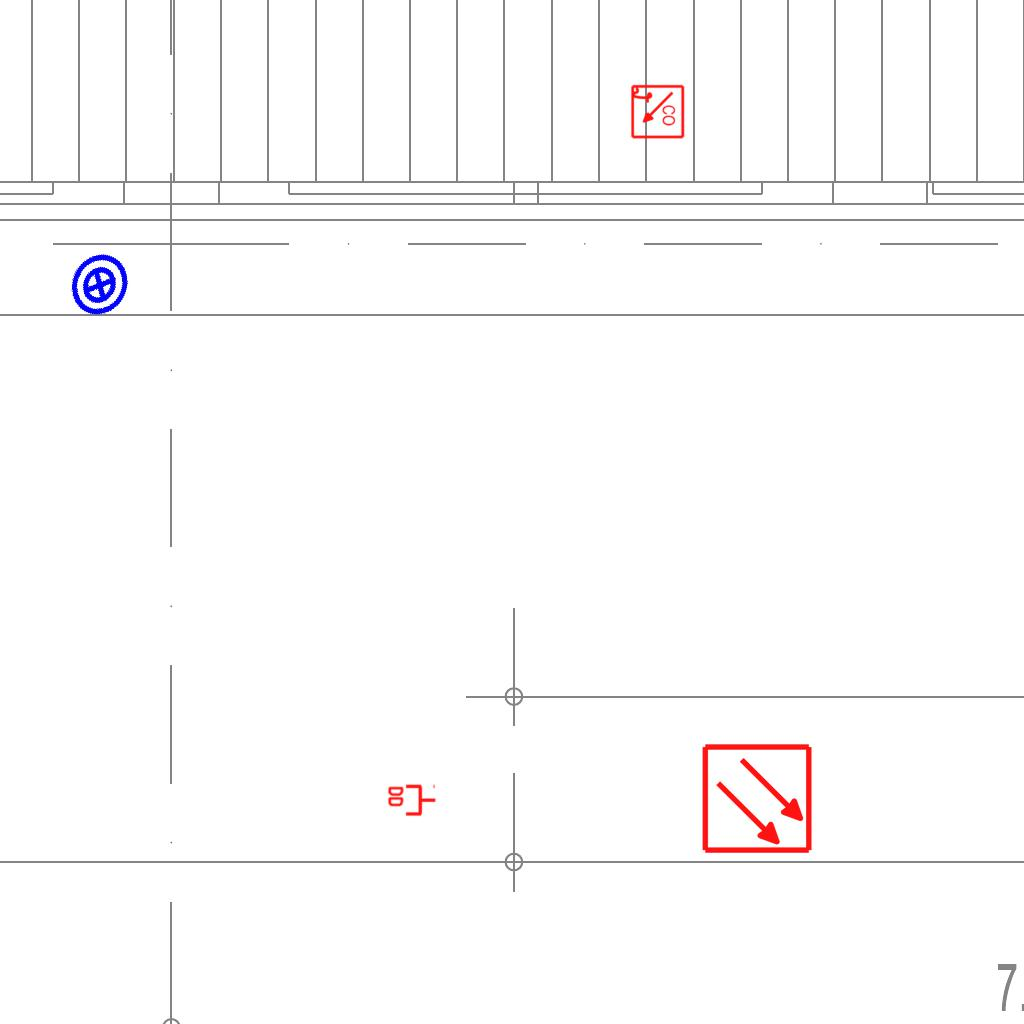Datenanschluss_zweifach: (386, 784, 437, 818)
RMO_Rauchmelder_optischer: (701, 742, 814, 855)
ROA_Rauchmelder_optisch_mit_Signalgeber_(Sockelsirene): (629, 84, 685, 140)
Taster_beleuchtet: (55, 240, 145, 330)
